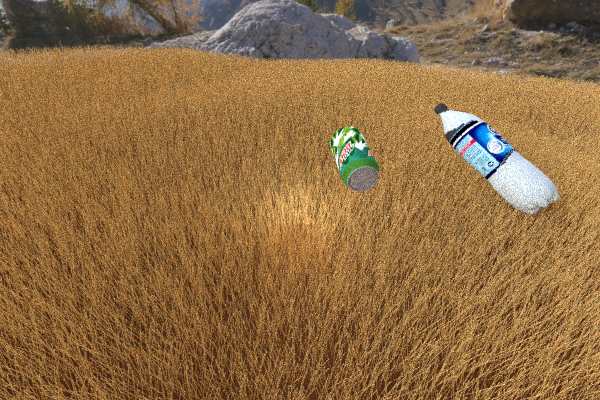Plastic Bottle: (434, 103, 558, 214), (330, 126, 379, 191), (201, 98, 255, 126)
